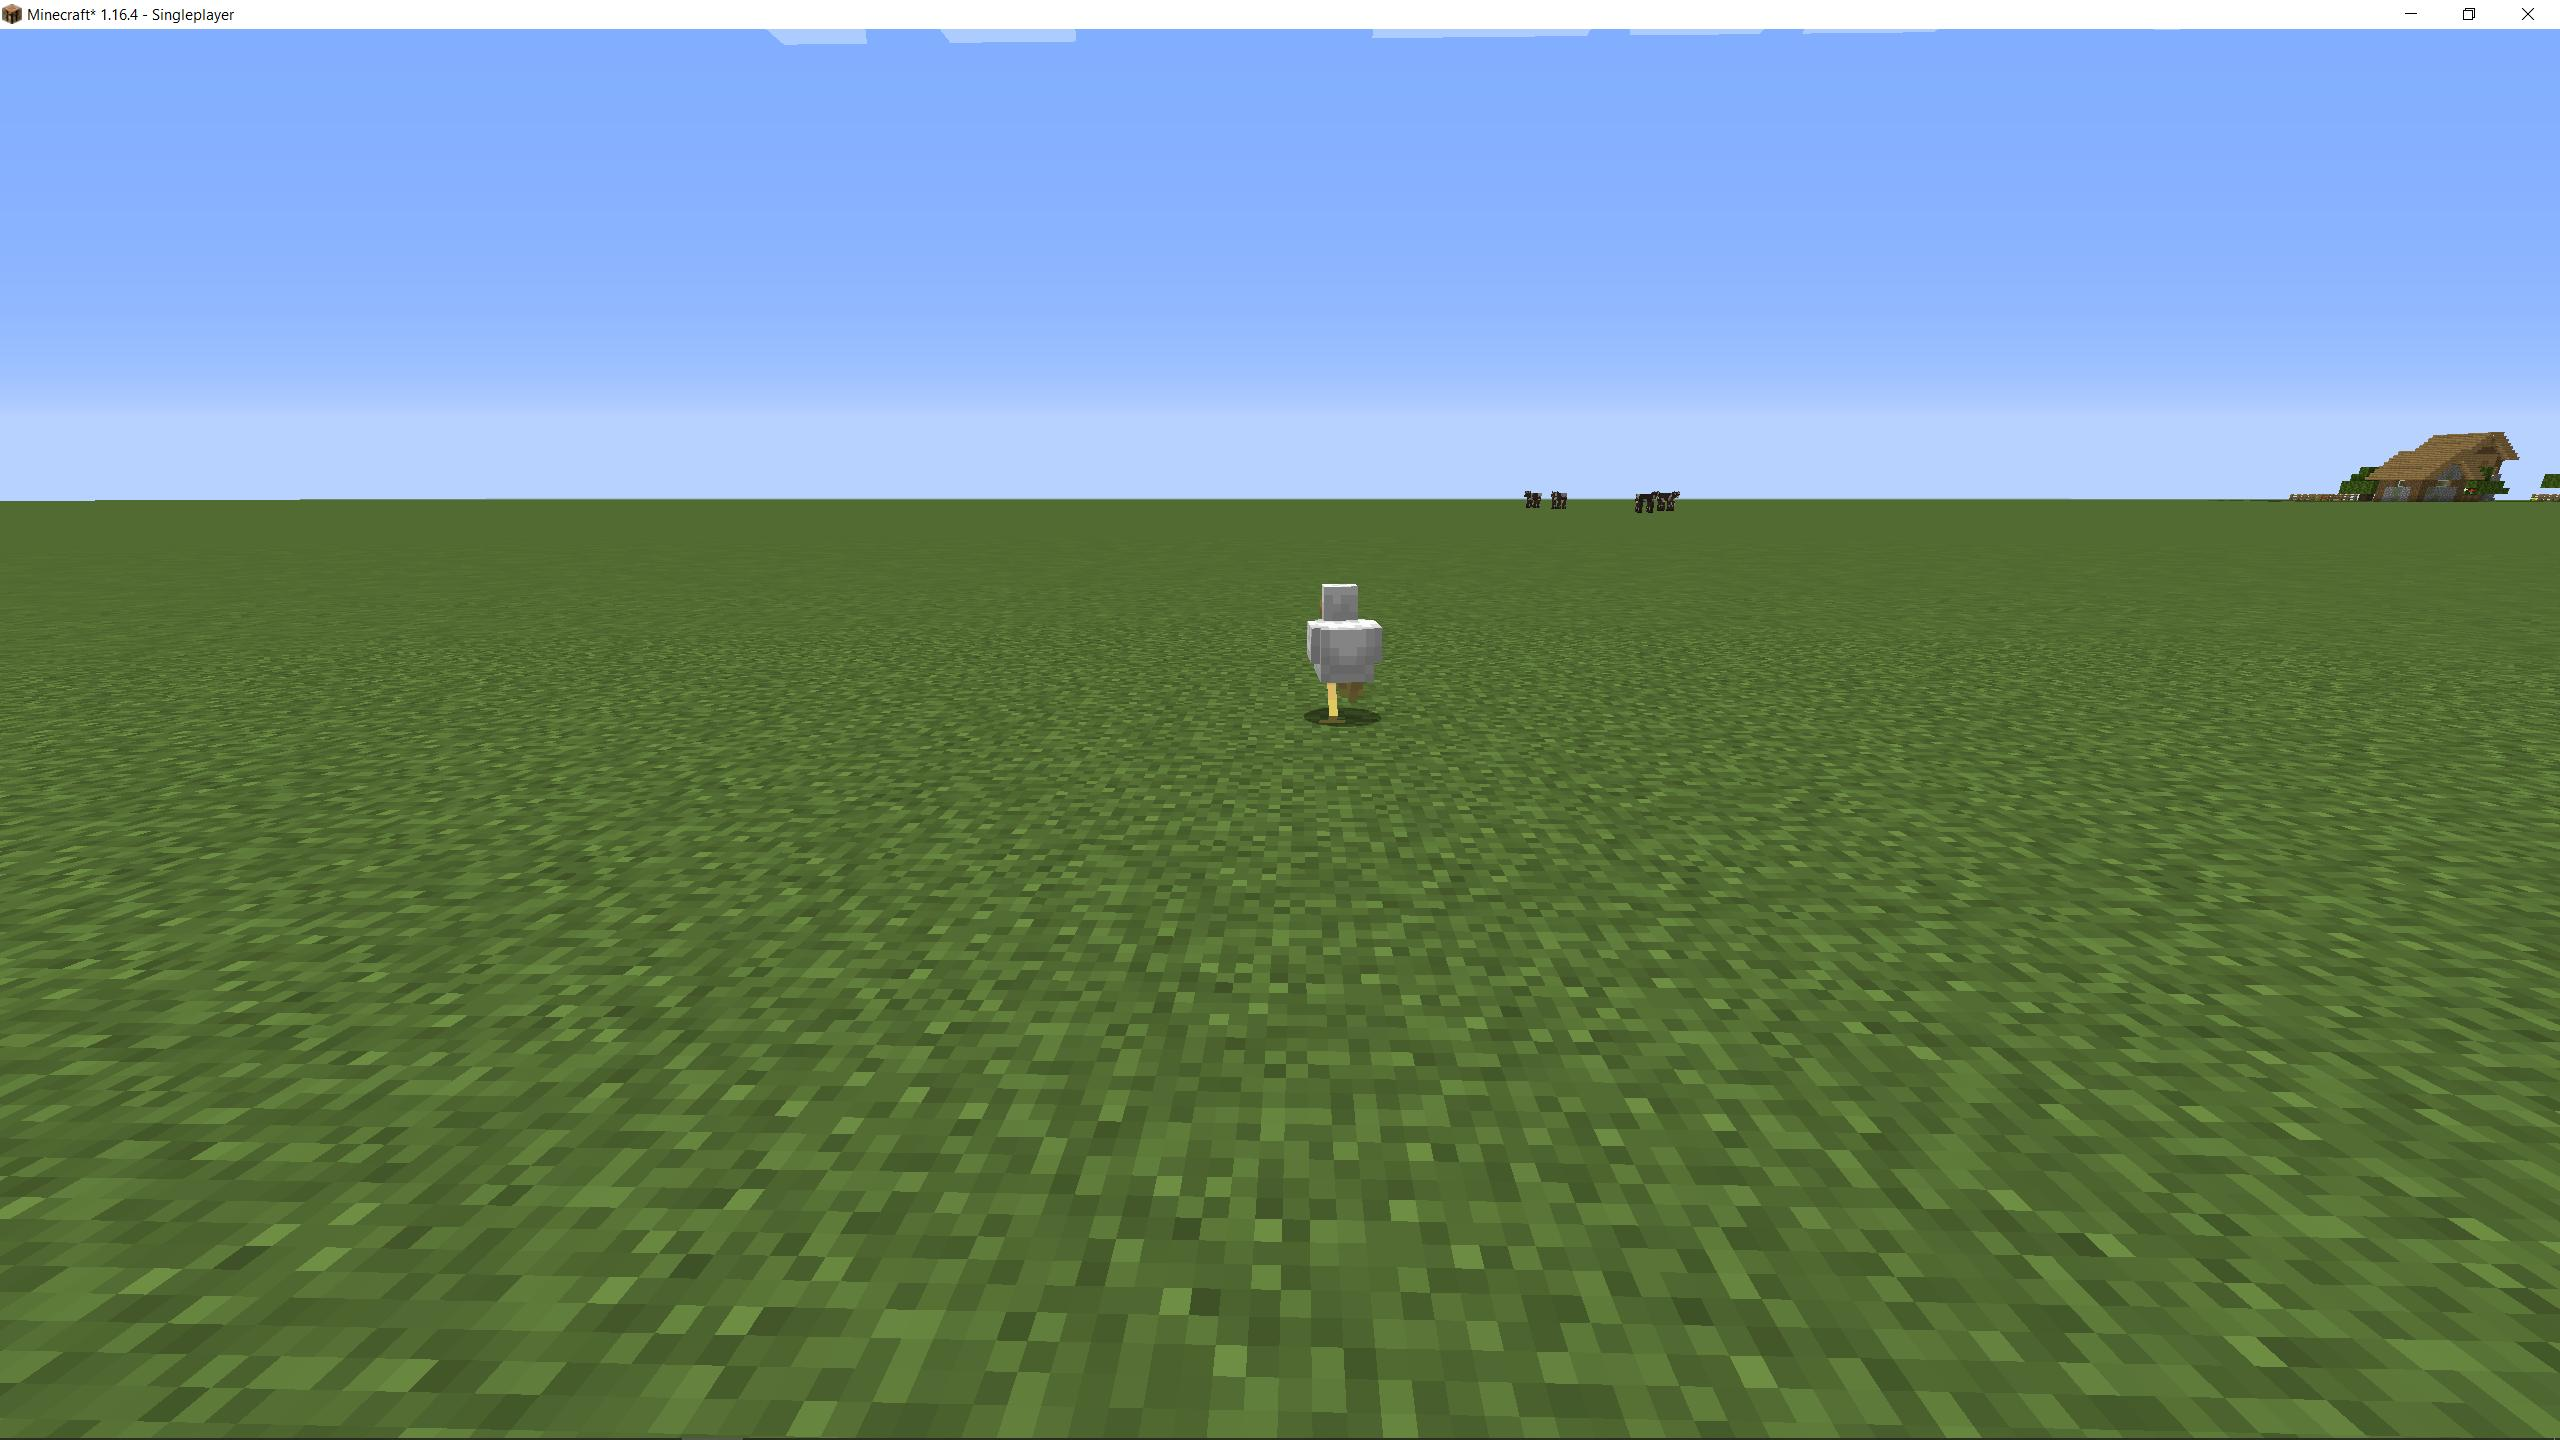chicken: (1299, 580, 1385, 731)
